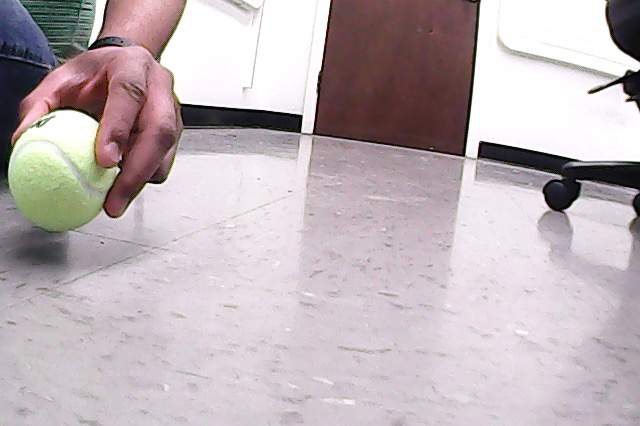ball: (9, 111, 118, 231)
